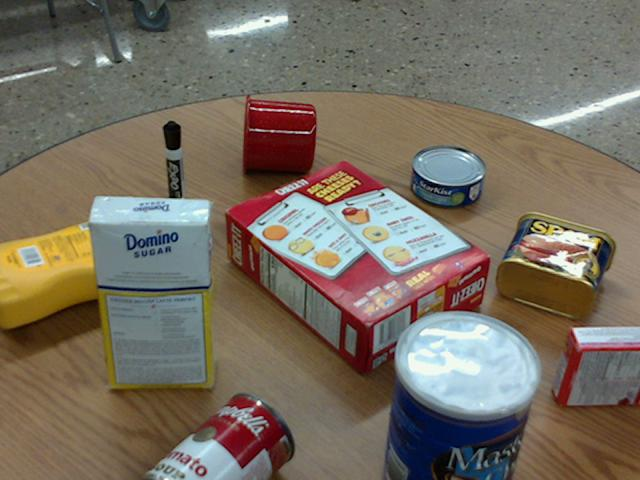cracker_box: (224, 160, 488, 368)
gelatin_box: (553, 325, 639, 405)
large_marker: (163, 121, 185, 222)
master_chef_can: (381, 311, 538, 479)
mug: (242, 94, 315, 173)
mustard_bottle: (0, 217, 183, 327)
potted_meat_can: (496, 211, 615, 318)
sugar_box: (87, 195, 212, 388)
tomato_soup_can: (141, 392, 294, 479)
tuna_fish_can: (411, 145, 485, 206)
